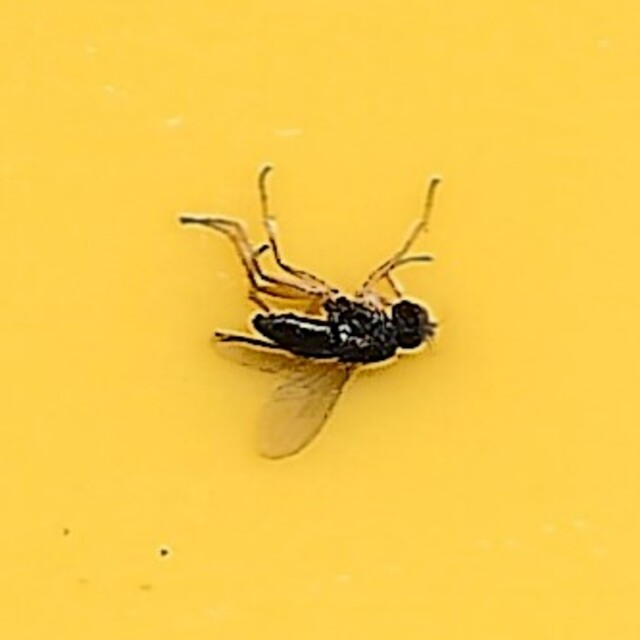Brachycera: (192, 173, 448, 467)
